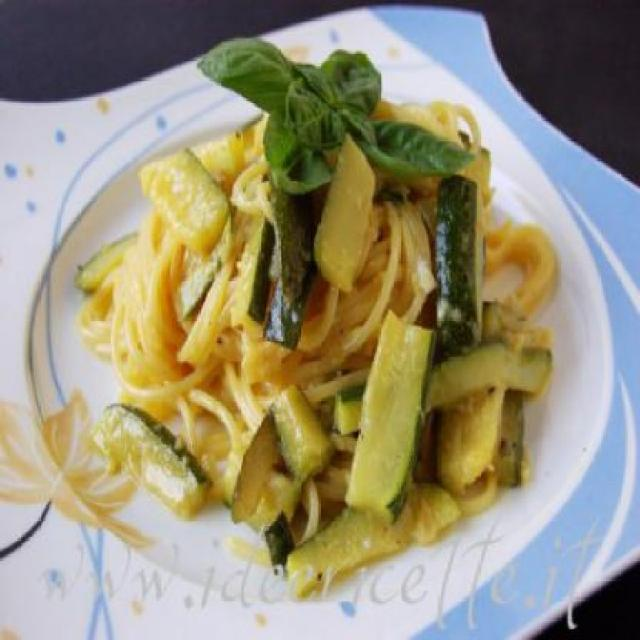Pasta with carbonara sauce: (31, 36, 584, 576)
